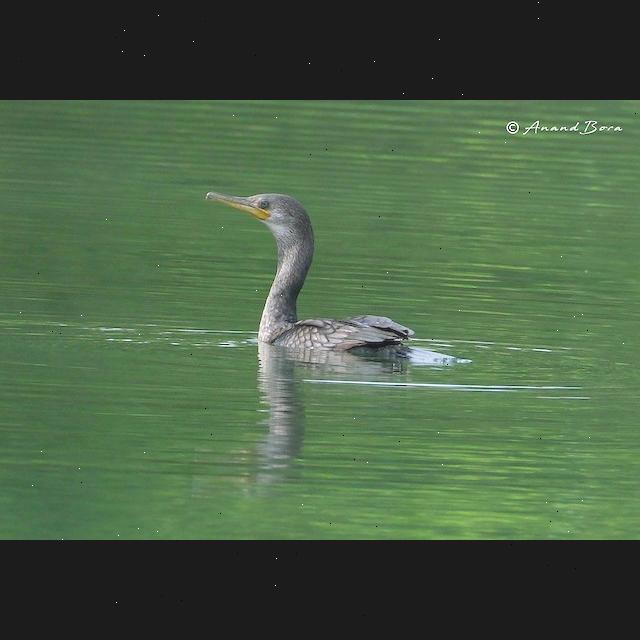cormorant: (200, 188, 468, 376)
